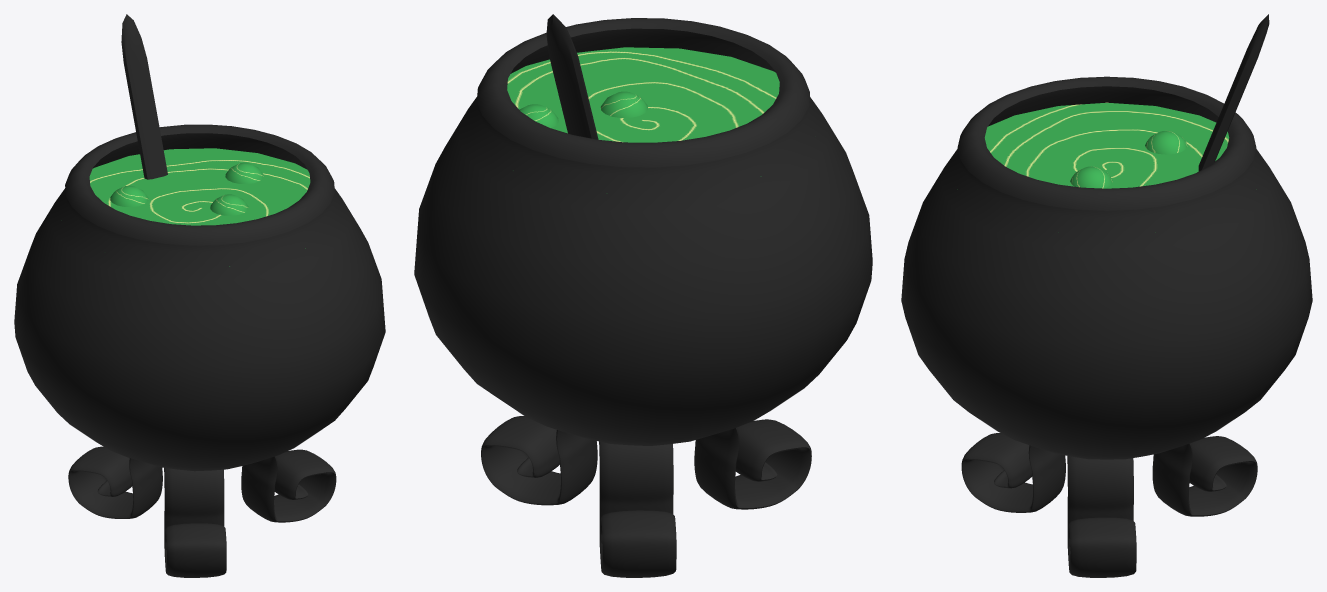
Rendered from caldero.fbx.
3 views of the same model, side by side, from view 1: azimuth 30°, elevation 25°; view 2: azimuth 150°, elevation 25°; view 3: azimuth 270°, elevation 25° (orthographic). The views are drawn at different scales.
Parts seen in each view (by area): view 1: caldero, Disco, cuchara, Esfera, Esfera_2, Esfera_1; view 2: caldero, Disco, cuchara, Esfera; view 3: caldero, Disco, cuchara, Esfera_1, Esfera.
Part boxes in pixels (x1,y1,x2,y2): caldero: (14, 124, 385, 577); Disco: (89, 148, 310, 266); cuchara: (121, 14, 167, 179); Esfera: (210, 194, 248, 215); Esfera_2: (225, 162, 263, 184); Esfera_1: (110, 185, 148, 207); caldero: (414, 18, 872, 577); Disco: (507, 47, 779, 193); cuchara: (546, 14, 598, 139); Esfera: (600, 91, 647, 117); caldero: (901, 76, 1312, 577); Disco: (957, 102, 1256, 232); cuchara: (1198, 14, 1269, 171); Esfera_1: (1145, 130, 1187, 154); Esfera: (1070, 166, 1112, 188).
Size of the model in its own units: 175 by 241 by 175.
2 materials, 1 textured.
